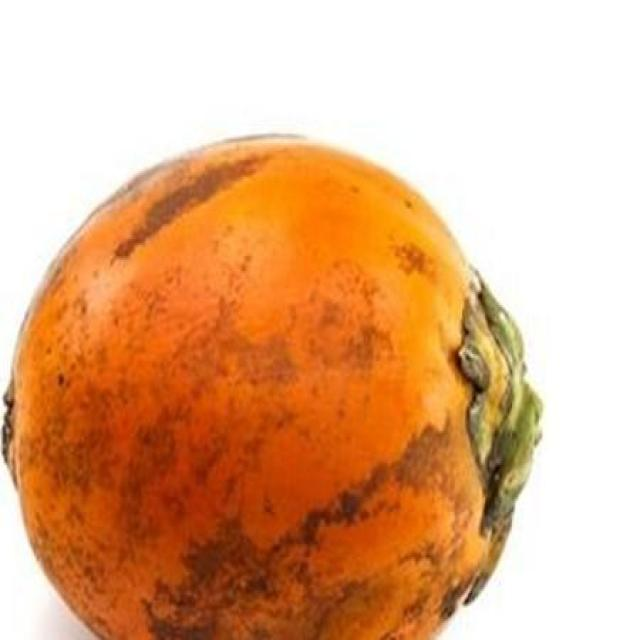good: (4, 136, 542, 638)
